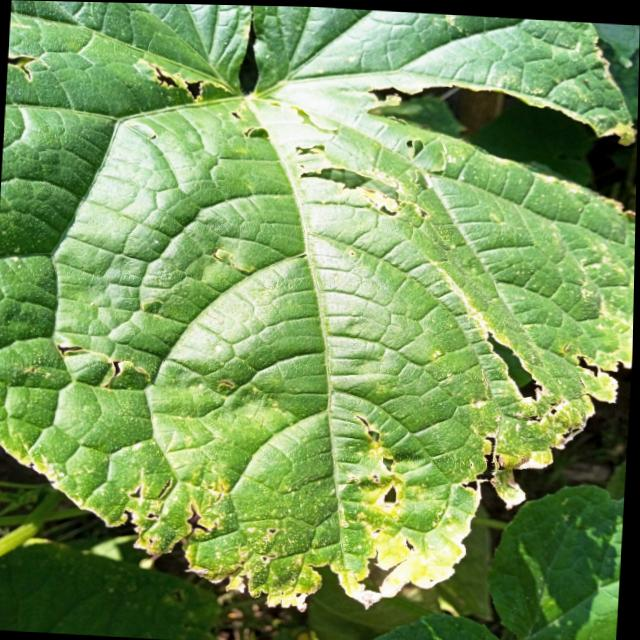Anthracnose: (223, 91, 439, 222), (343, 407, 413, 512), (473, 317, 548, 408), (139, 57, 219, 112)
